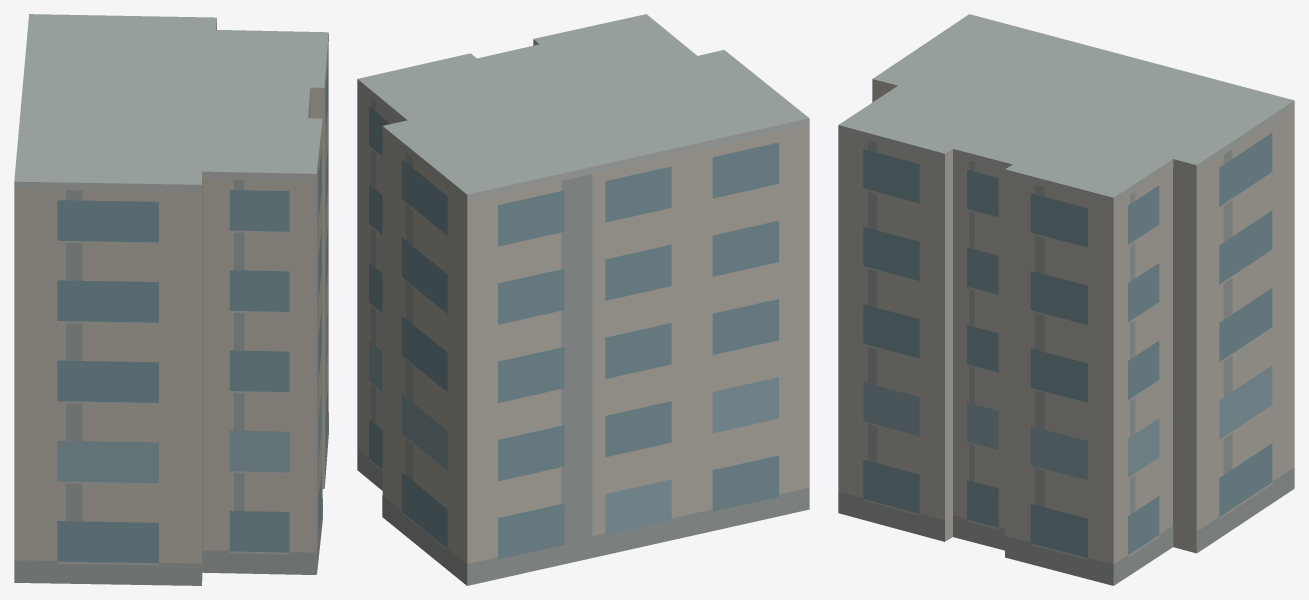
Rendered from survey-upis-32623227.glb.
3 views of the same model, side by side, from view 1: azimuth 30°, elevation 25°; view 2: azimuth 150°, elevation 25°; view 3: azimuth 270°, elevation 25° (orthographic). The views are drawn at different scales.
Parts seen in each view (by area): view 1: survey-upis-32623227.tmp; view 2: survey-upis-32623227.tmp; view 3: survey-upis-32623227.tmp.
Boxes of the visible parts, bbox=[...] form: survey-upis-32623227.tmp: bbox=[14, 14, 328, 585]; survey-upis-32623227.tmp: bbox=[357, 14, 809, 585]; survey-upis-32623227.tmp: bbox=[838, 14, 1294, 585].
Bounding box in the file's own units: 13.2 × 13 × 13.86.
